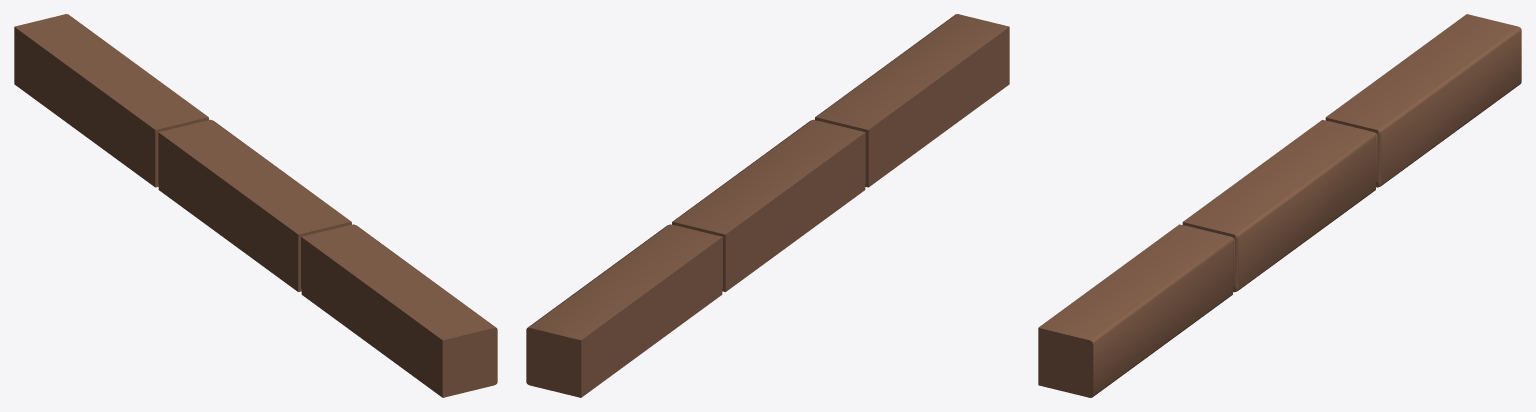
The model's file is Temple_border.fbx.
The picture shows the model from 3 angles, left to right: view 1: azimuth 30°, elevation 25°; view 2: azimuth 150°, elevation 25°; view 3: azimuth 330°, elevation 25°; orthographic projection.
Parts seen in each view (by area): view 1: Border.001; view 2: Border.001; view 3: Border.001.
Boxes of the visible parts, <box> form: Border.001: <box>14,14,497,397</box>; Border.001: <box>526,14,1009,397</box>; Border.001: <box>1038,14,1521,397</box>.
Size of the model in its own units: 1 by 1 by 13.5.
